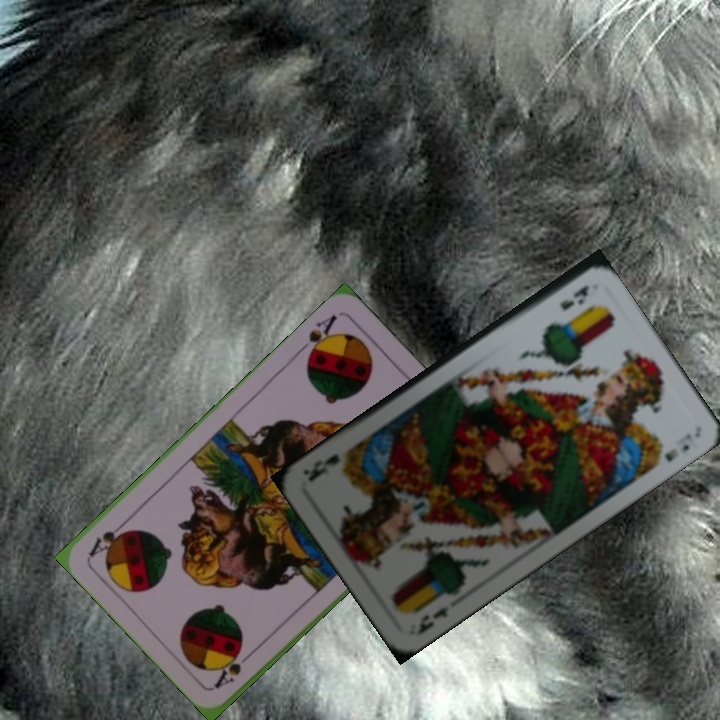EK: (410, 602, 452, 639), (555, 281, 592, 313)
SA: (293, 310, 341, 364), (210, 645, 258, 691)
